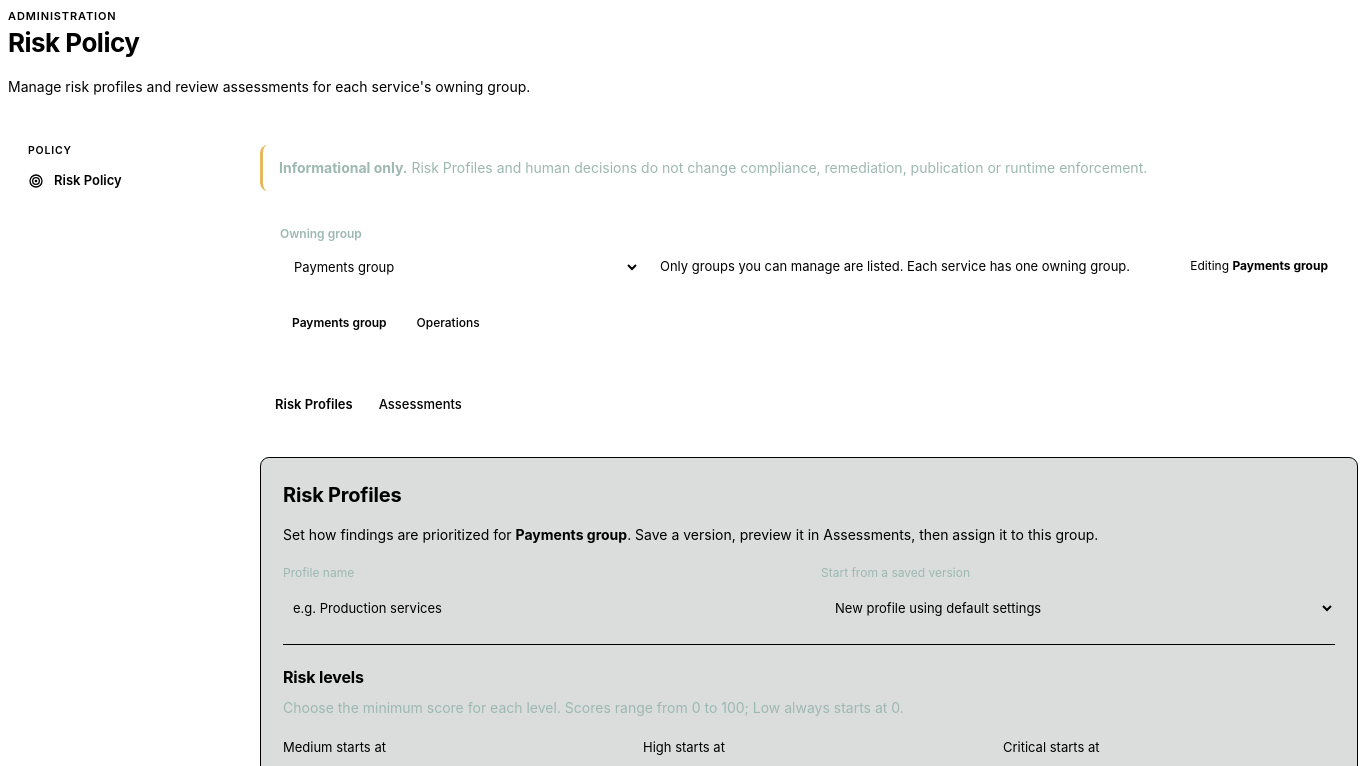
Test: offers assessment action only when scoped permission is present, and requires assessment evidence for a decision
Step 1. Click the button "Assessments" → point(420, 405), box [367,390,474,420]
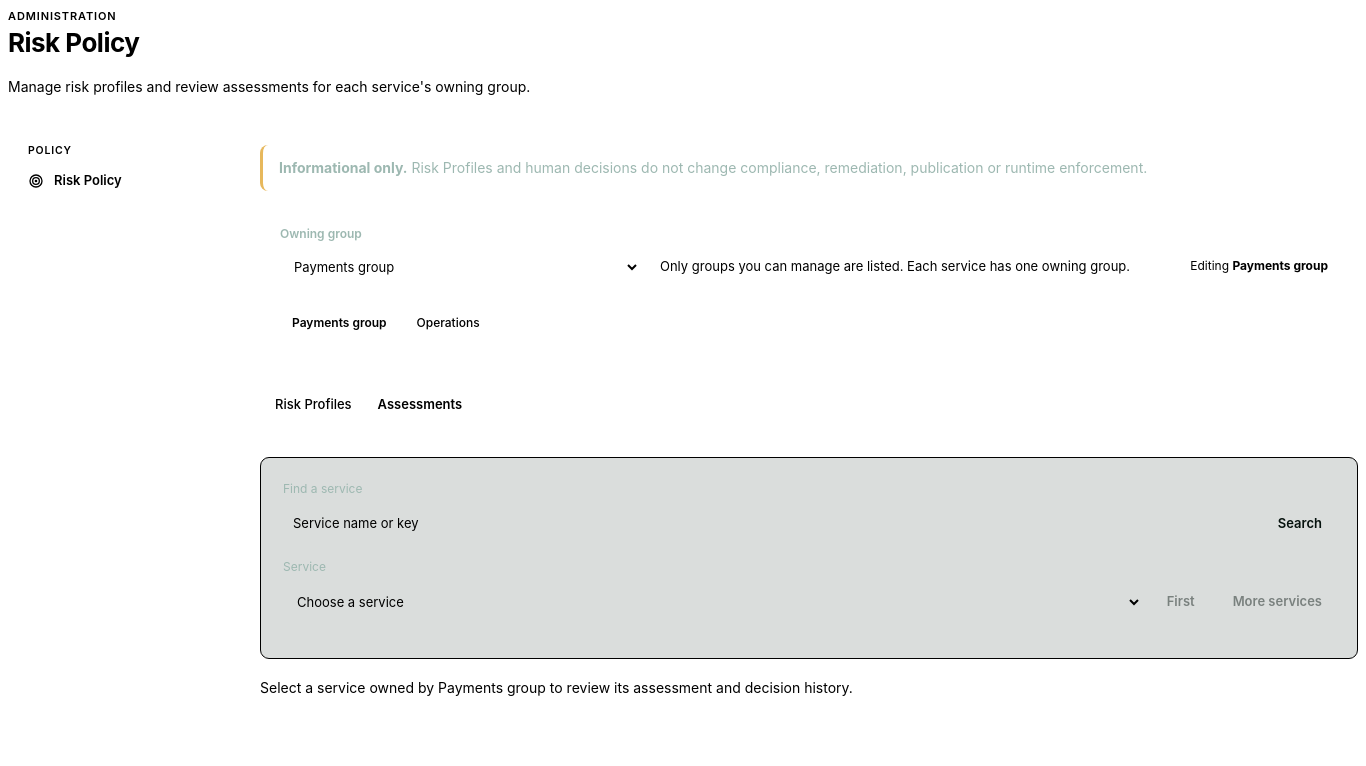
Step 2. Select "Payments" in the dropdown labelled "Service" → point(712, 602), box [283,584,1142,620]
(page scrolled)
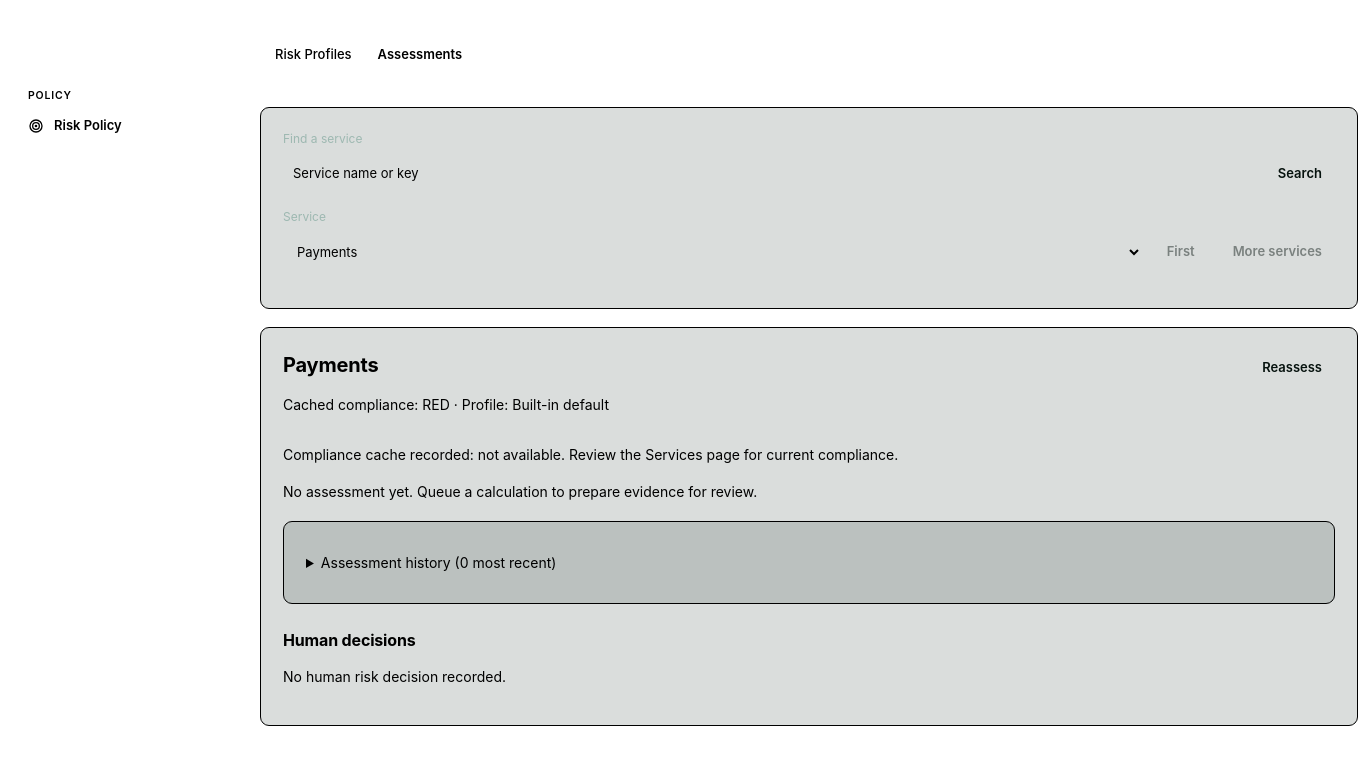
Expected: the heading "Payments" is shown, [283,353,378,377]
Expected: the button "Reassess" is enabled, [1249,350,1335,386]
Expected: the text "No assessment yet" is shown, [283,483,757,500]
